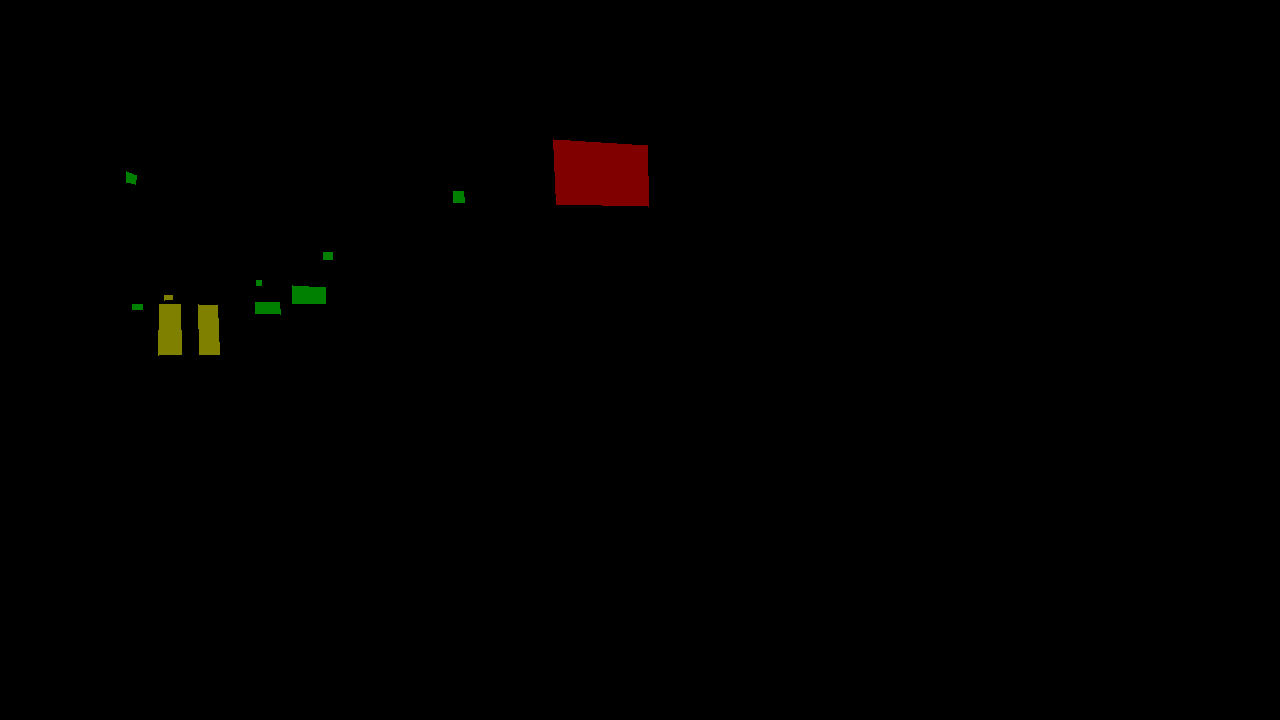door: (158, 304, 181, 355), (198, 304, 219, 354)
sign: (126, 171, 136, 184), (453, 191, 464, 202), (323, 252, 332, 259), (132, 304, 142, 309), (164, 295, 172, 300), (256, 280, 261, 285)
tvmonitor: (553, 139, 648, 206), (292, 285, 325, 303), (255, 302, 280, 314)
